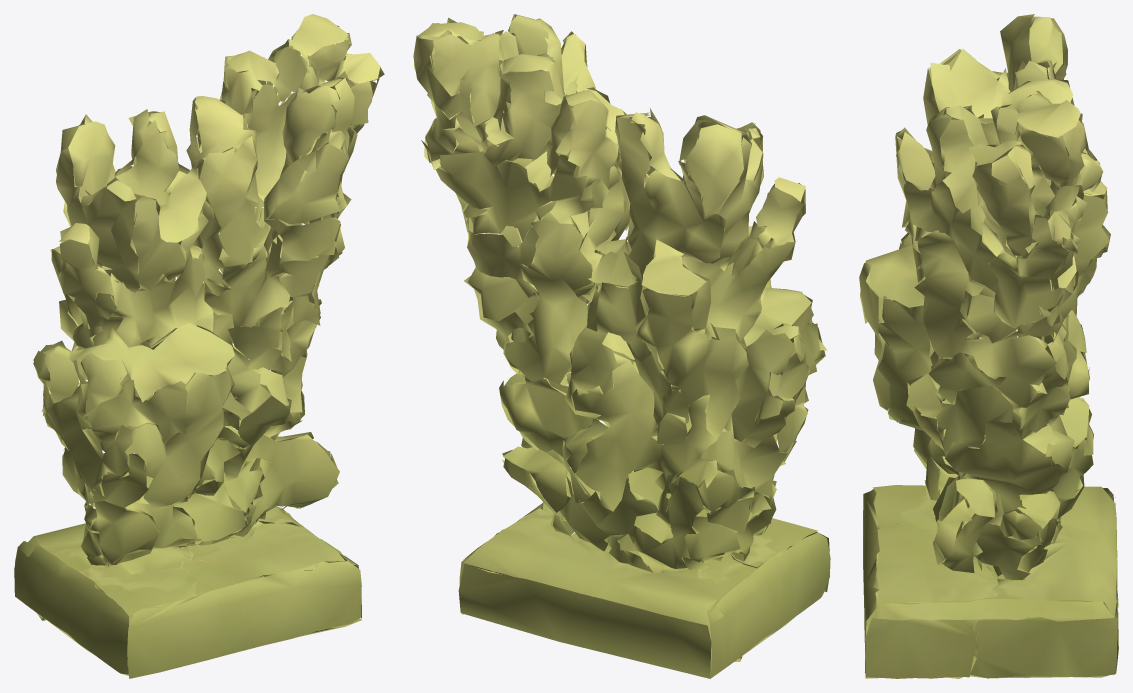
Rendered from porites.glb.
3 renders of one model, left to right at view 1: azimuth 30°, elevation 25°; view 2: azimuth 150°, elevation 25°; view 3: azimuth 270°, elevation 25°, orthographic. The views are drawn at different scales.
Parts seen in each view (by area): view 1: porites_near; view 2: porites_near; view 3: porites_near.
Boxes of the visible parts, x1,y1,x2,y2 form: porites_near: (14,14,384,678); porites_near: (413,14,830,678); porites_near: (859,14,1118,678).
Bounding box in the file's own units: 0.2047 × 0.3022 × 0.1183.
1 material, 1 textured.
